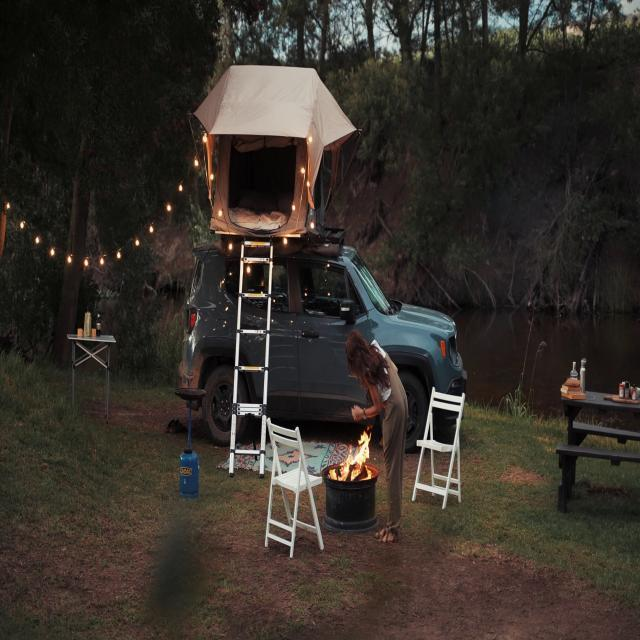Fire: (336, 430, 374, 478)
